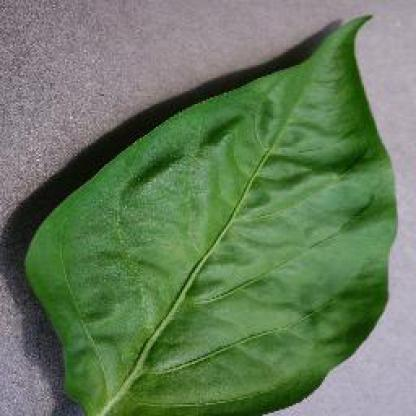good leaf: (15, 5, 384, 414)
